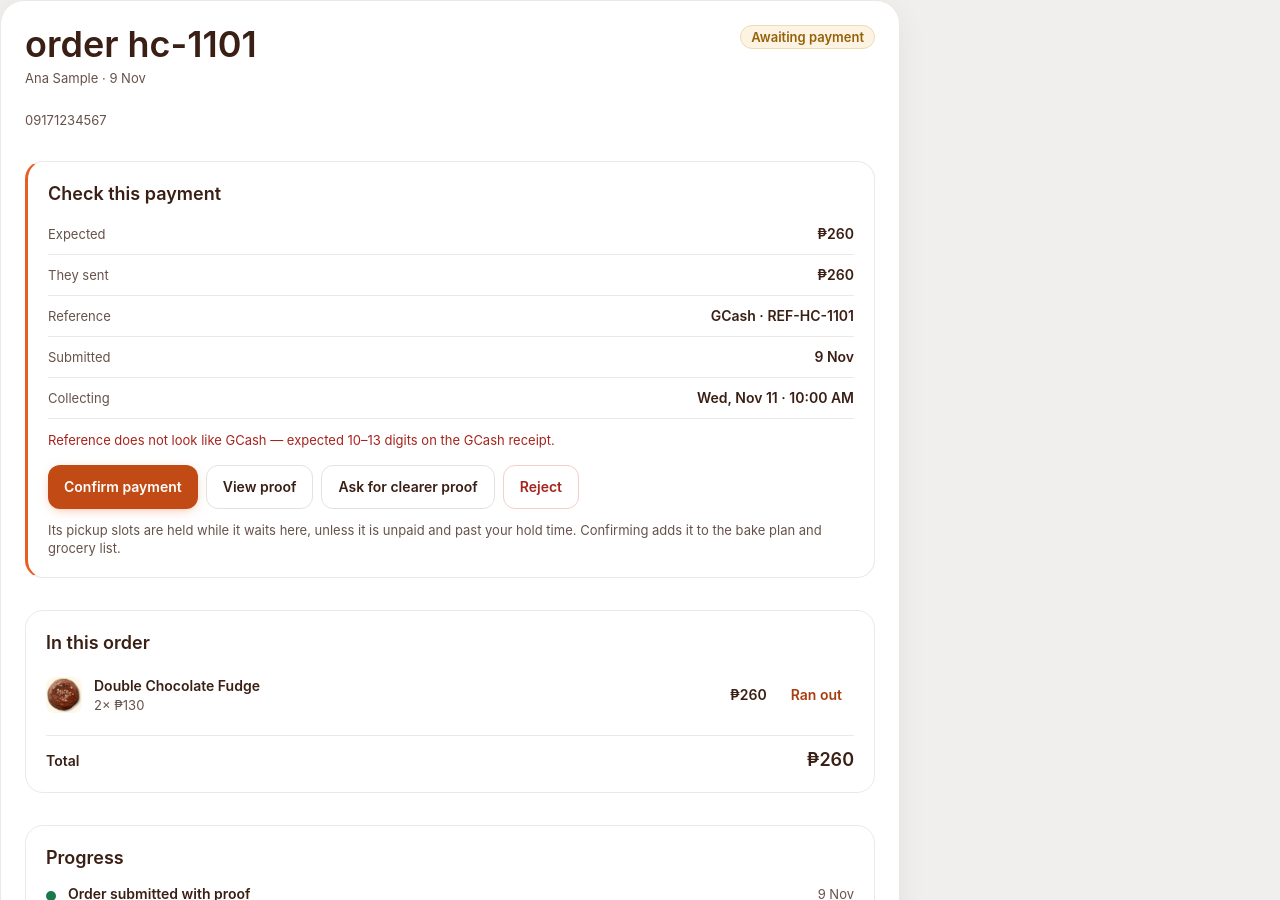
Test case: rejecting a payment asks first › Reject and cancel order sends staff_reject_payment once, for that order, and closes
The image size is (1280, 900).
Click the button "Reject". click: (541, 487)
box: x1=503 y1=465 x2=579 y2=509
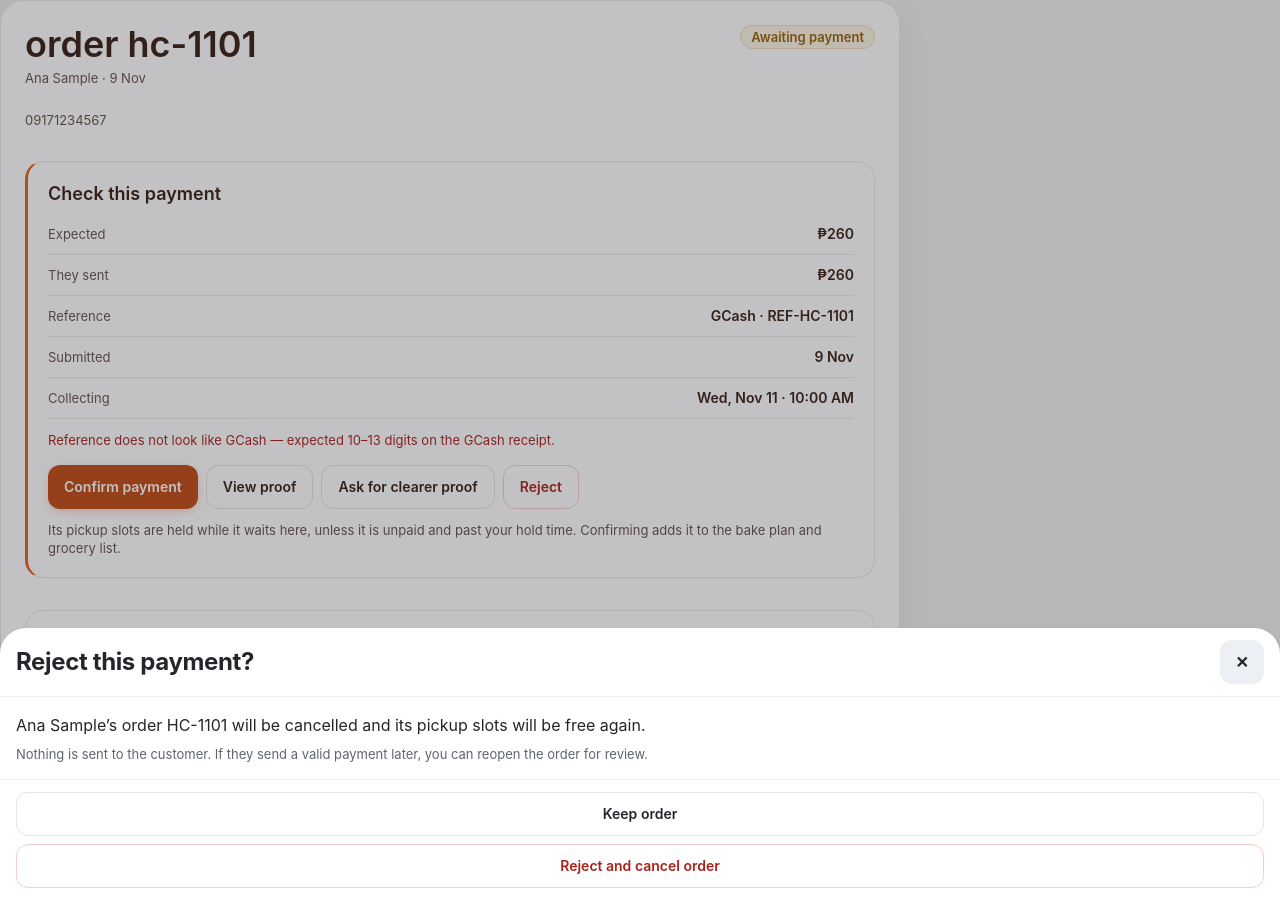
Click the button "Reject and cancel order". click: (640, 866)
box: x1=16 y1=844 x2=1264 y2=888
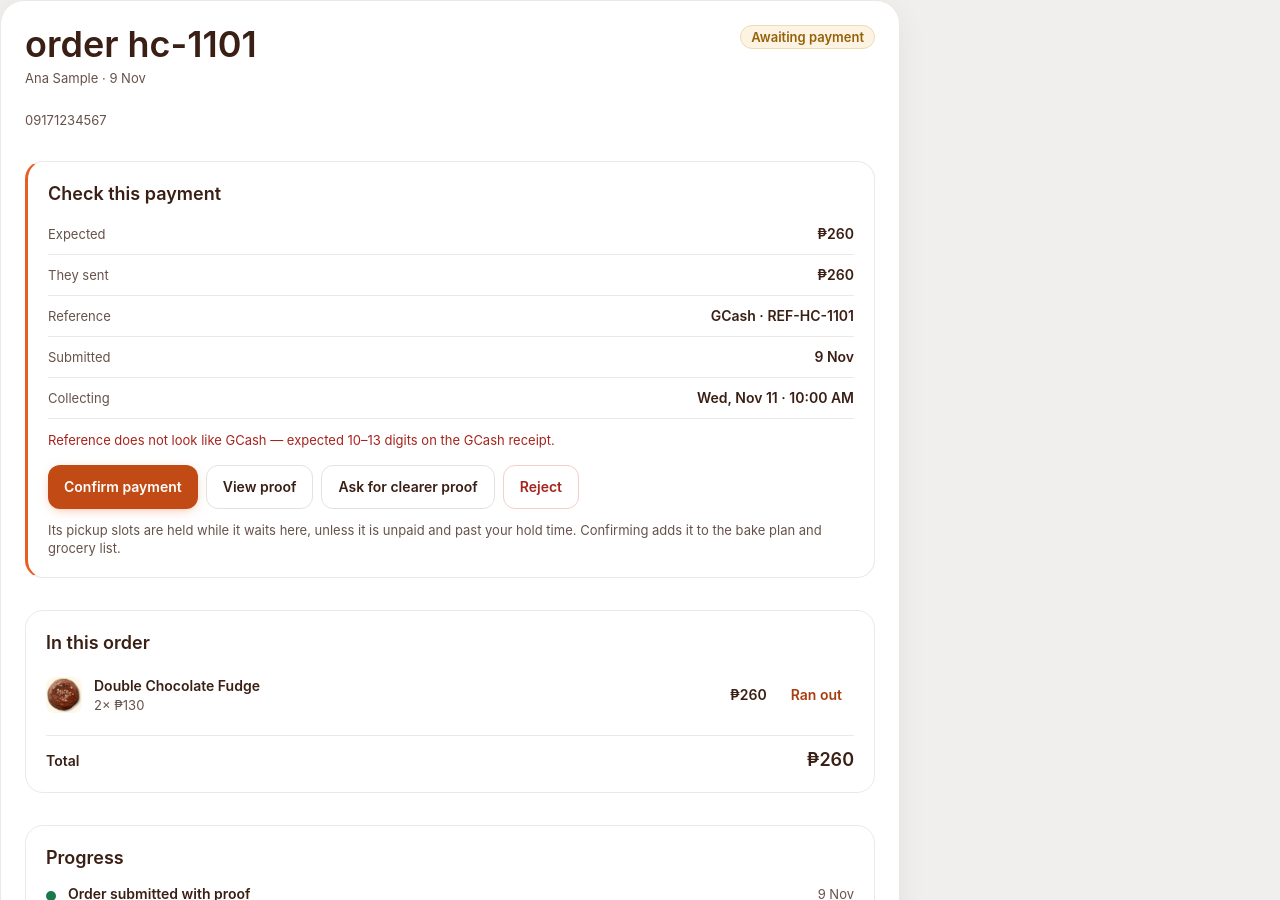
Now the dialog is gone
